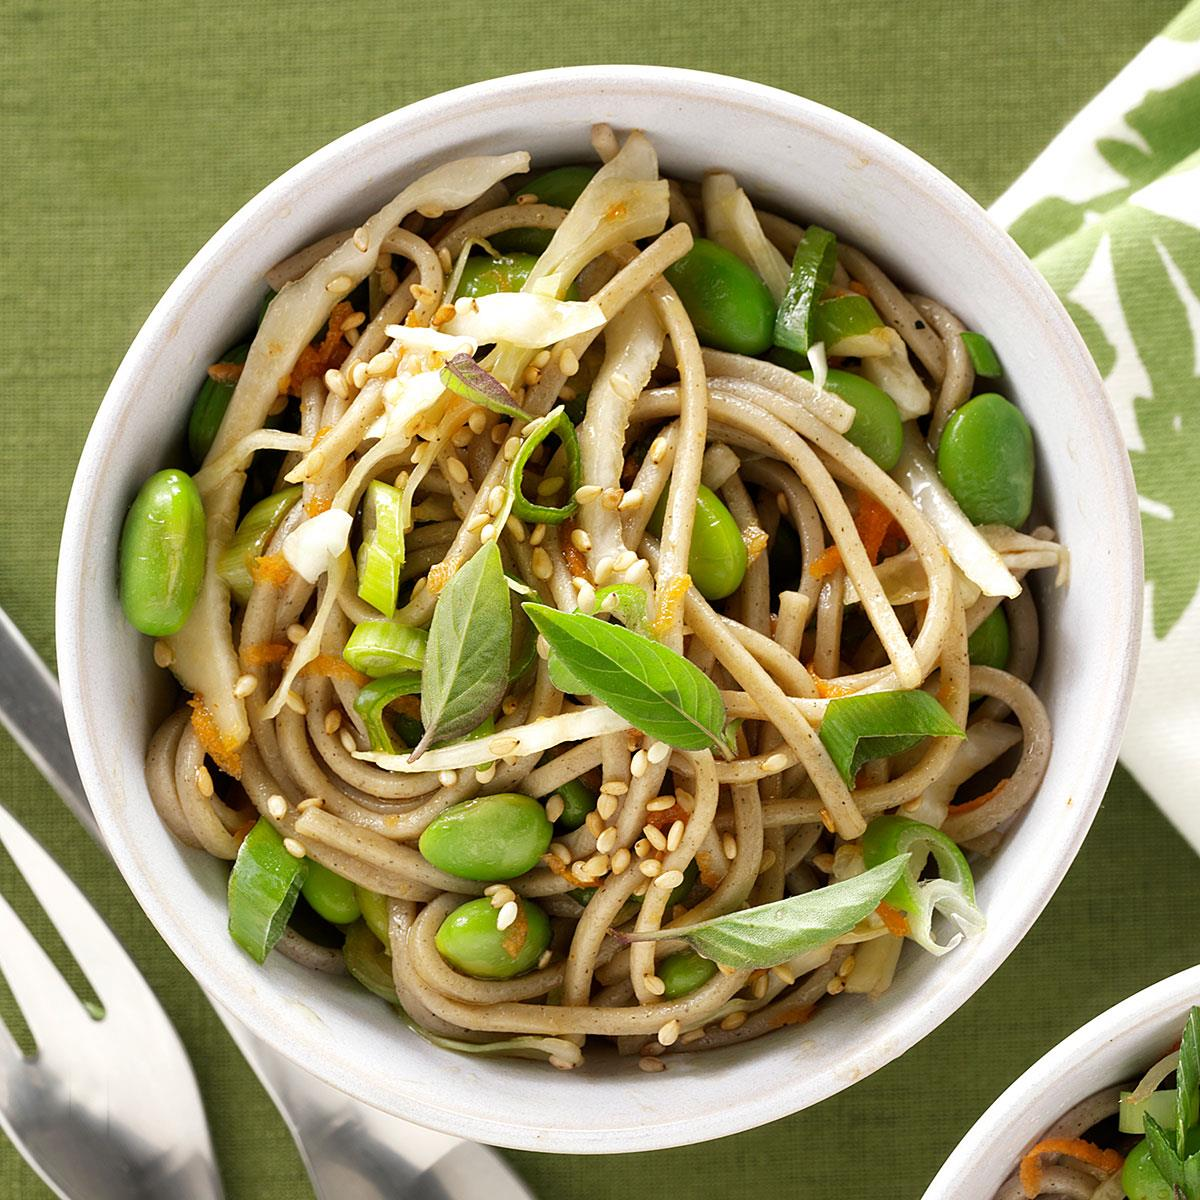Soba: (121, 99, 1073, 1088)
